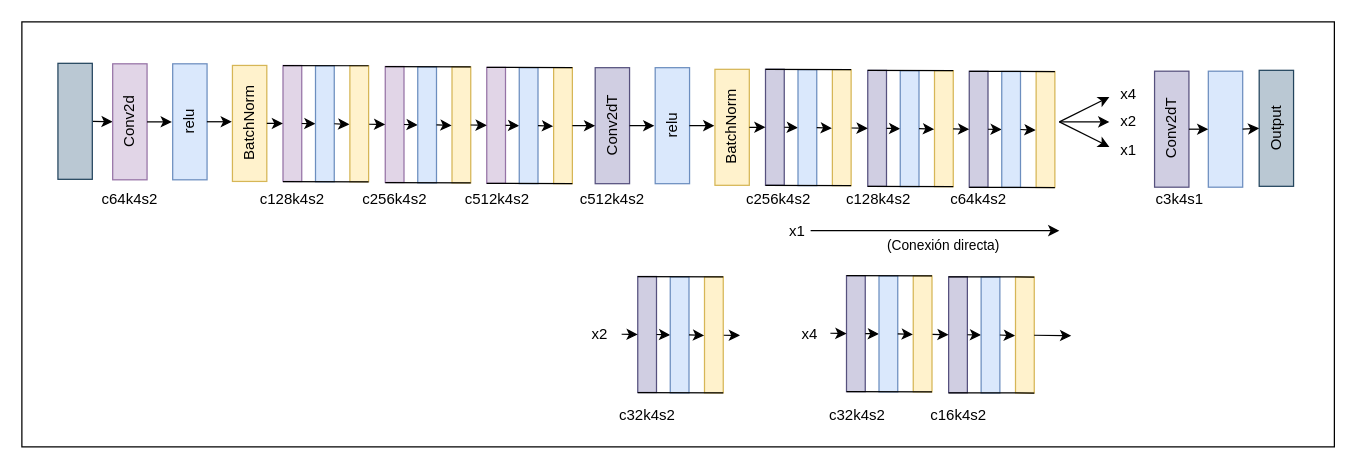
The diagram is 1356 pixels wide and 469 high, and some of its shapes have lost their labels. Each missing label, with the centre of its shape:
Input: the point at 74,120
sigmoid: the point at 1225,128
